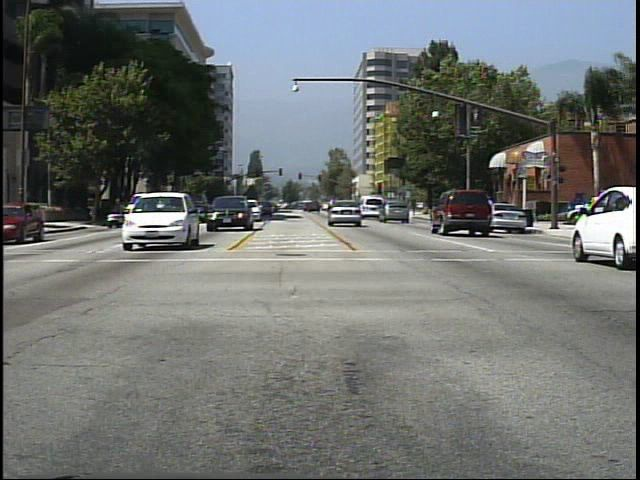person: (483, 194, 502, 229), (441, 193, 459, 227)
